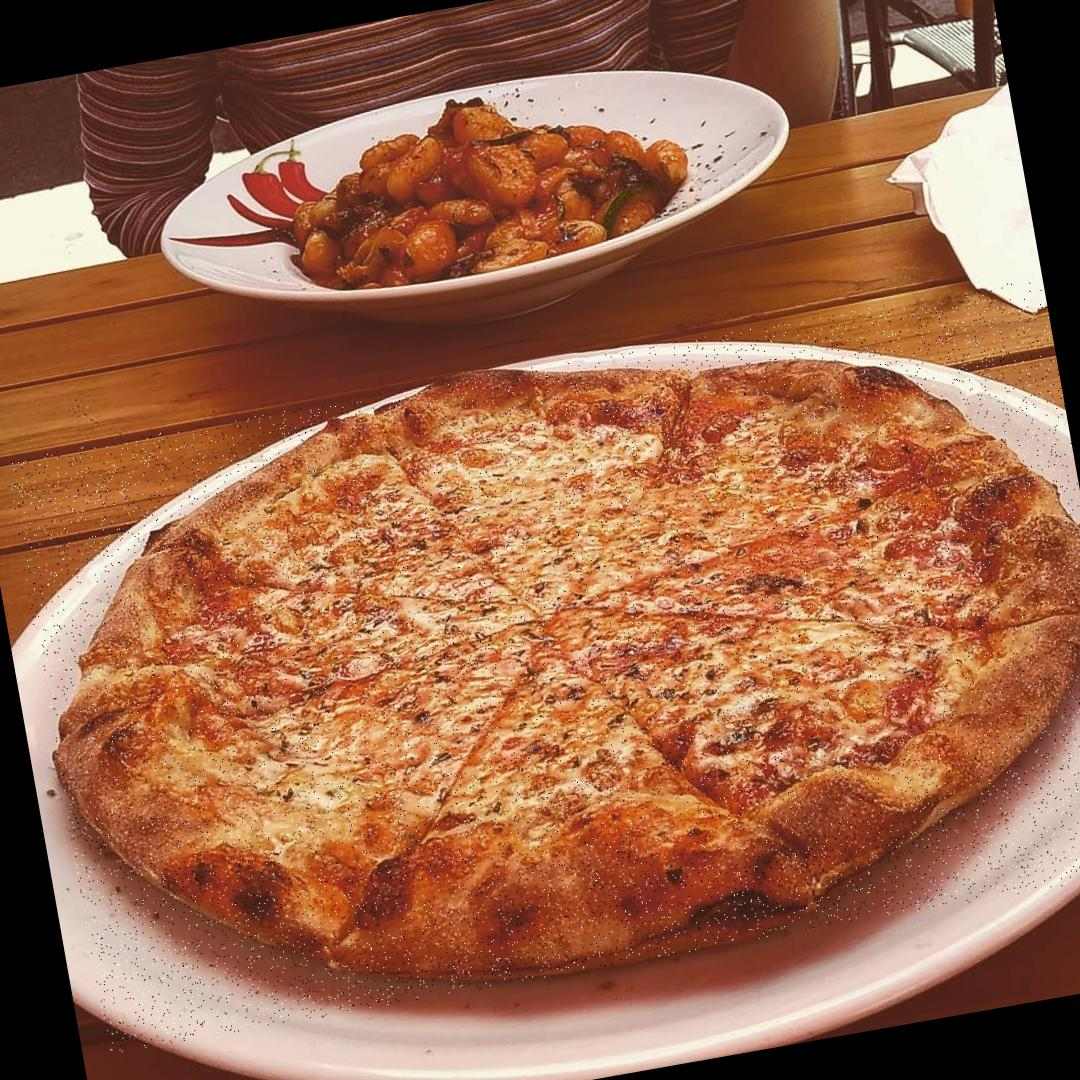Pizza: (4, 277, 1080, 1054)
